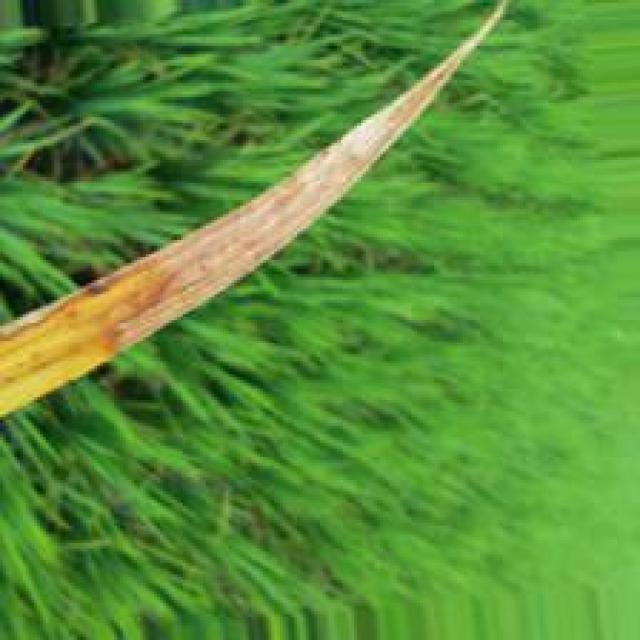Leaf_Scald: (95, 72, 448, 361)
